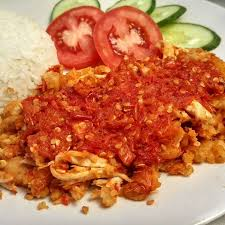ayam_geprek: (6, 40, 217, 218)
